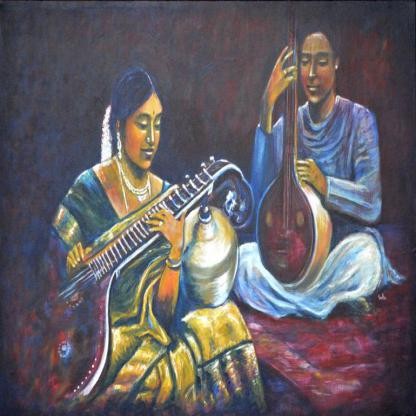Veena: (21, 165, 226, 345), (255, 23, 331, 291)
